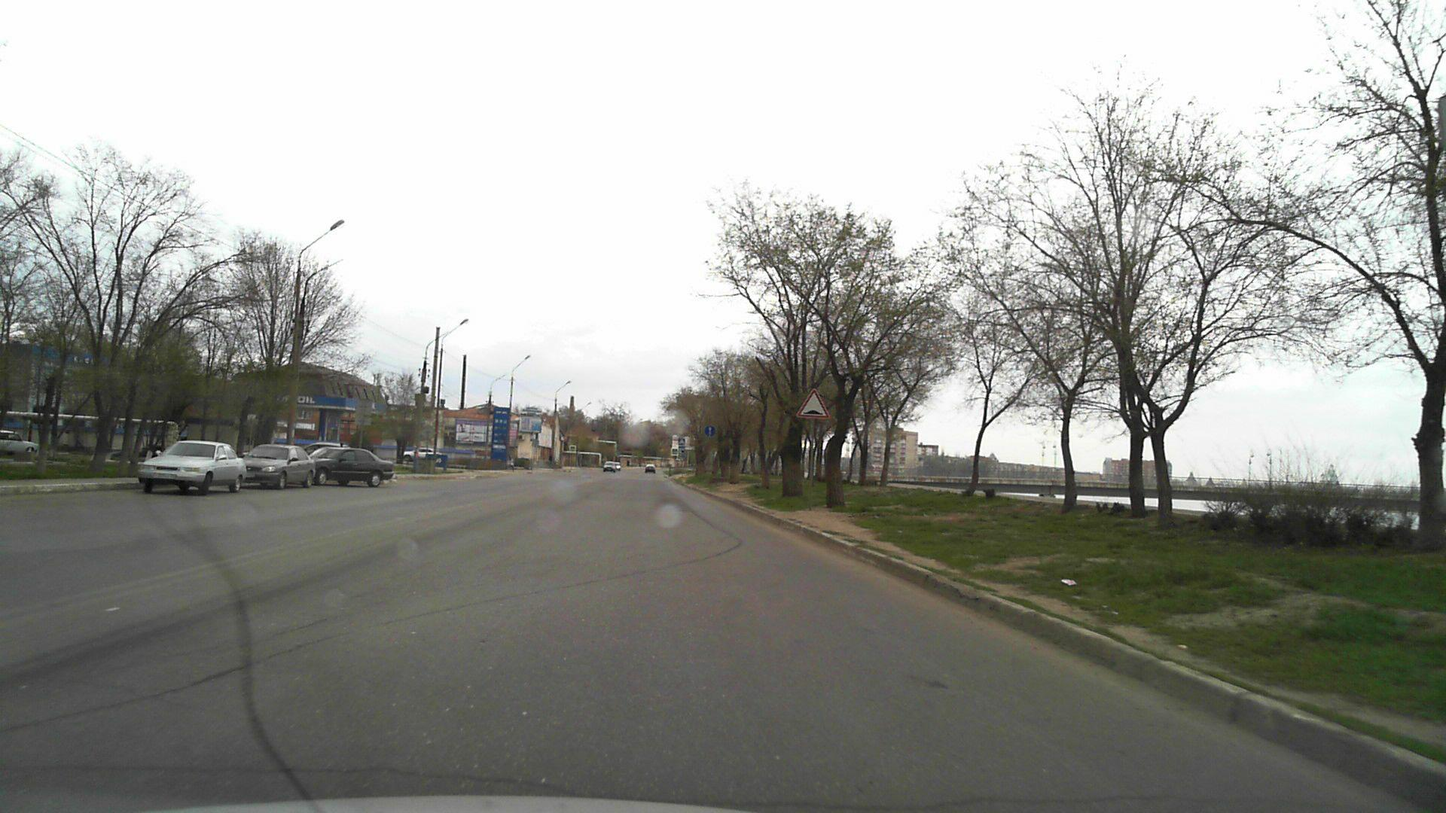road_sign: (795, 388, 831, 418)
